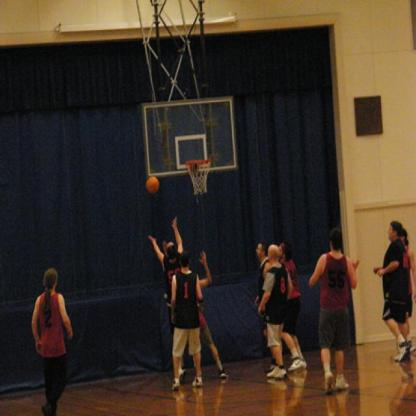basketball: (145, 175, 159, 195)
rim: (185, 158, 213, 169)
